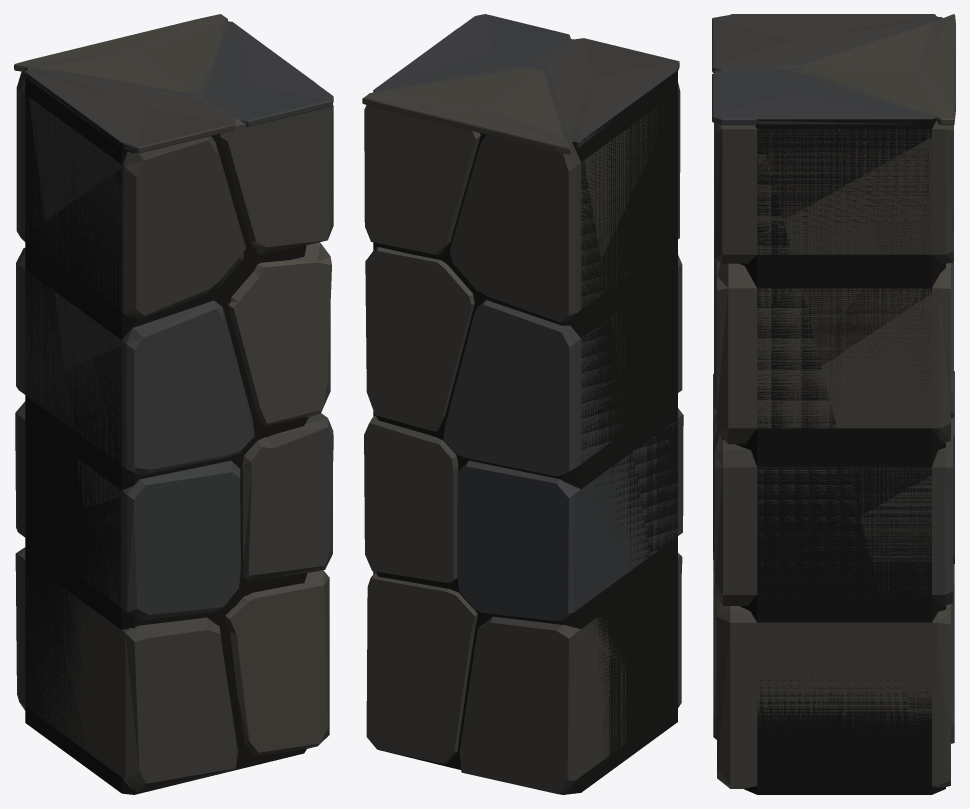
File: Wall_1m_B.fbx
The picture shows the model from 3 angles, left to right: view 1: azimuth 30°, elevation 25°; view 2: azimuth 150°, elevation 25°; view 3: azimuth 270°, elevation 25°; orthographic projection. The views are drawn at different scales.
Visible parts, largest first — view 1: Wall_1m_B; view 2: Wall_1m_B; view 3: Wall_1m_B.
Part boxes in pixels (x1=…): Wall_1m_B: x1=14, y1=14, x2=333, y2=794; Wall_1m_B: x1=362, y1=14, x2=683, y2=794; Wall_1m_B: x1=712, y1=14, x2=955, y2=794.
Size of the model in its own units: 1 by 3 by 0.98.
Materials: 1 (1 with a texture image).
